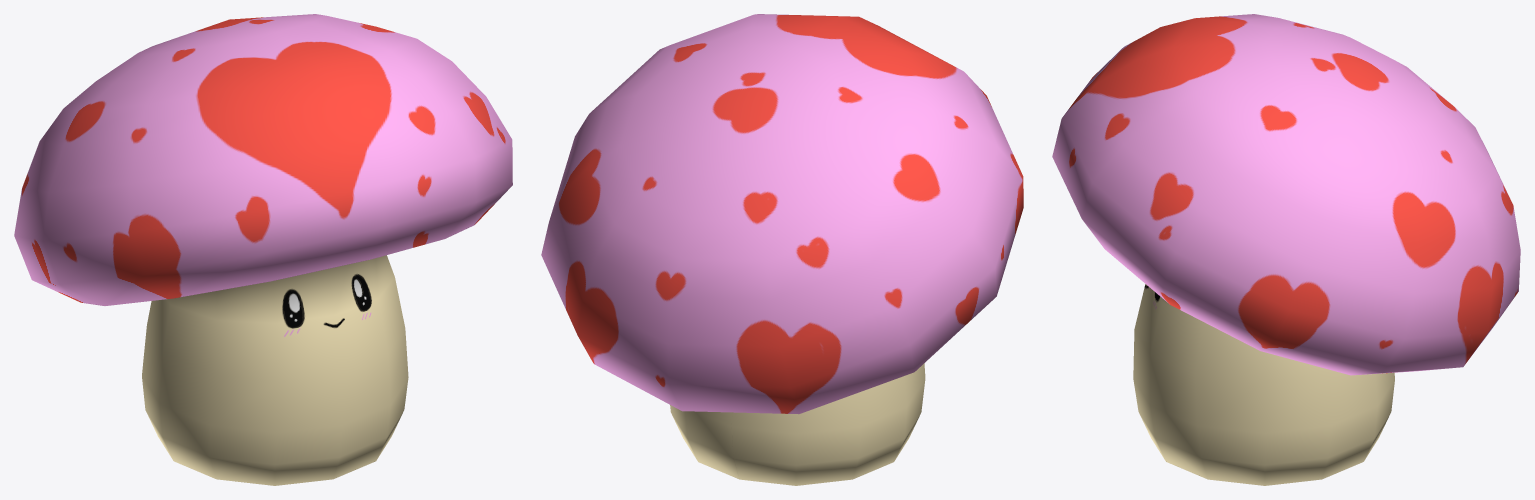
Rendered from kinoko_kaihuku.fbx.
3 renders of one model, left to right at view 1: azimuth 30°, elevation 25°; view 2: azimuth 150°, elevation 25°; view 3: azimuth 270°, elevation 25°, orthographic. The views are drawn at different scales.
Visible parts, largest first — view 1: polySurface6; view 2: polySurface6; view 3: polySurface6.
Part boxes in pixels (x1=…): polySurface6: x1=14, y1=14, x2=512, y2=485; polySurface6: x1=541, y1=14, x2=1023, y2=485; polySurface6: x1=1052, y1=14, x2=1520, y2=485.
Size of the model in its own units: 13.43 by 11.78 by 12.68.
